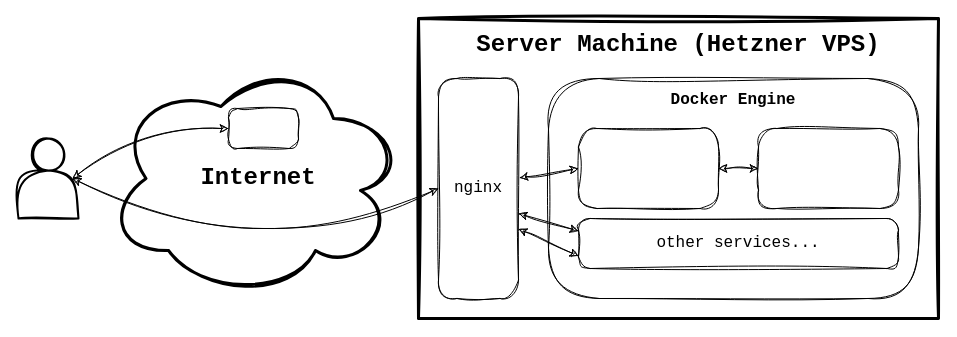
The diagram is 957 pixels wide and 337 high, and some of its shapes have lost their labels. The box of each missing label's shape, as (x1, y1, x2, y2) in pixels:
DNS: (228, 108, 298, 148)
playground postgres database: (758, 128, 898, 208)
playground server container: (578, 128, 718, 208)
